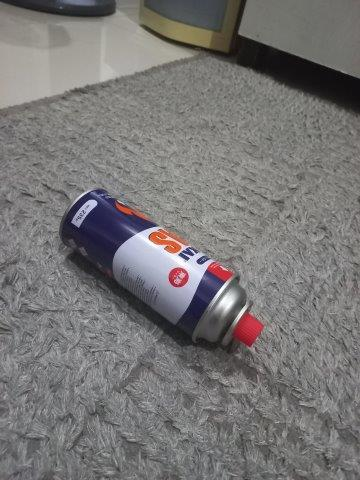kaleng: (56, 188, 264, 356)
